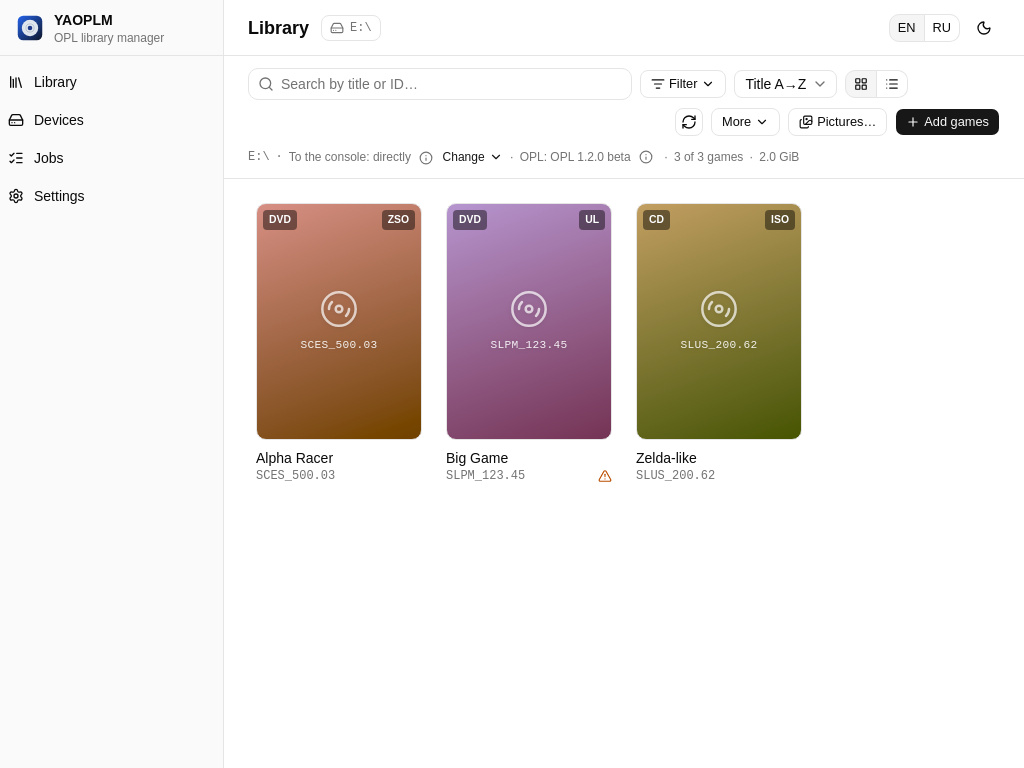
Test: the library toolbar (LIB-5, UI-5) › filters through one menu that counts what is ticked
expect the text "3 of 3 games" is shown: met, box 674,149 -> 759,165
expect the element "Media" is not shown: met
What coordinates should you click on to do the following:
click the button with test id "library-filter"
I would click on:
 (683, 84)
Its box is 640,70 -> 726,98.
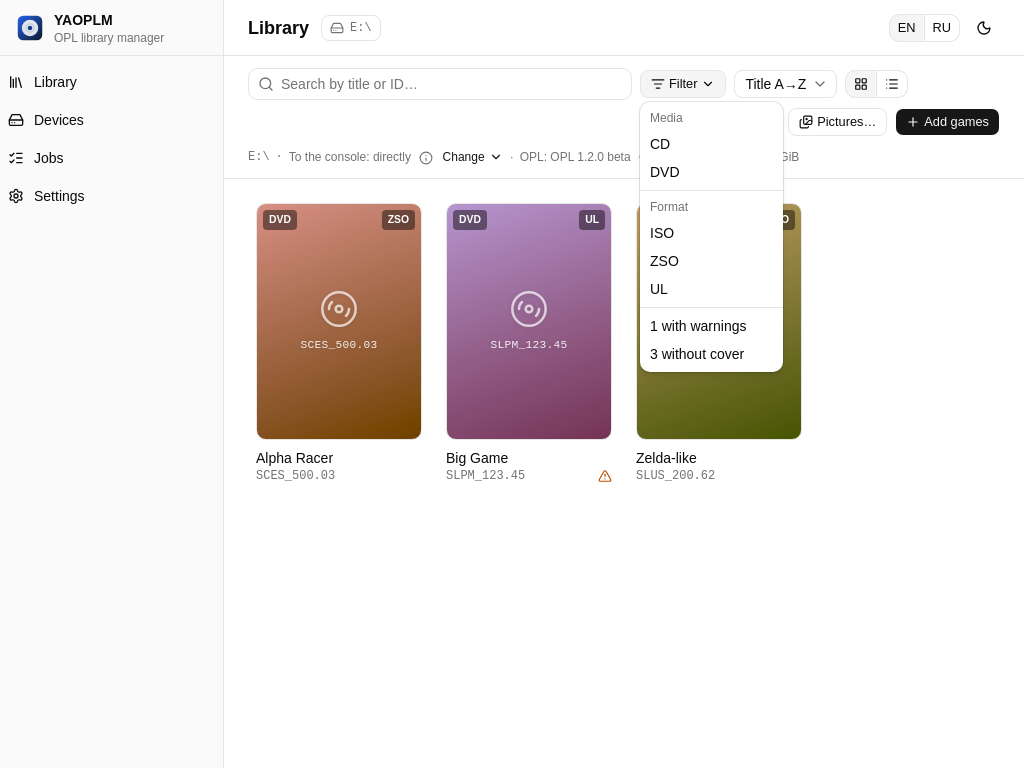
What coordinates should you click on to do the following:
click the menu item "DVD"
I would click on:
 (665, 172)
Its box is 650,164 -> 680,180.
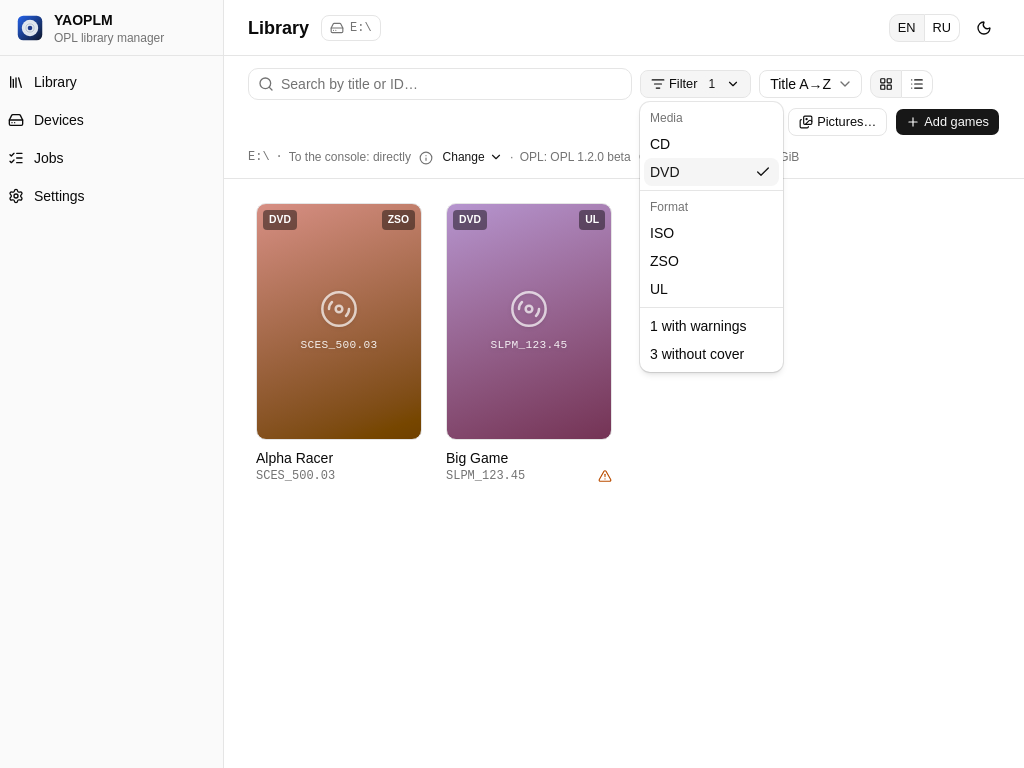
# The menu stays open for the next box.
What coordinates should you click on to do the following:
click the menu item "UL"
I would click on:
 (659, 289)
Its box is 650,281 -> 668,297.
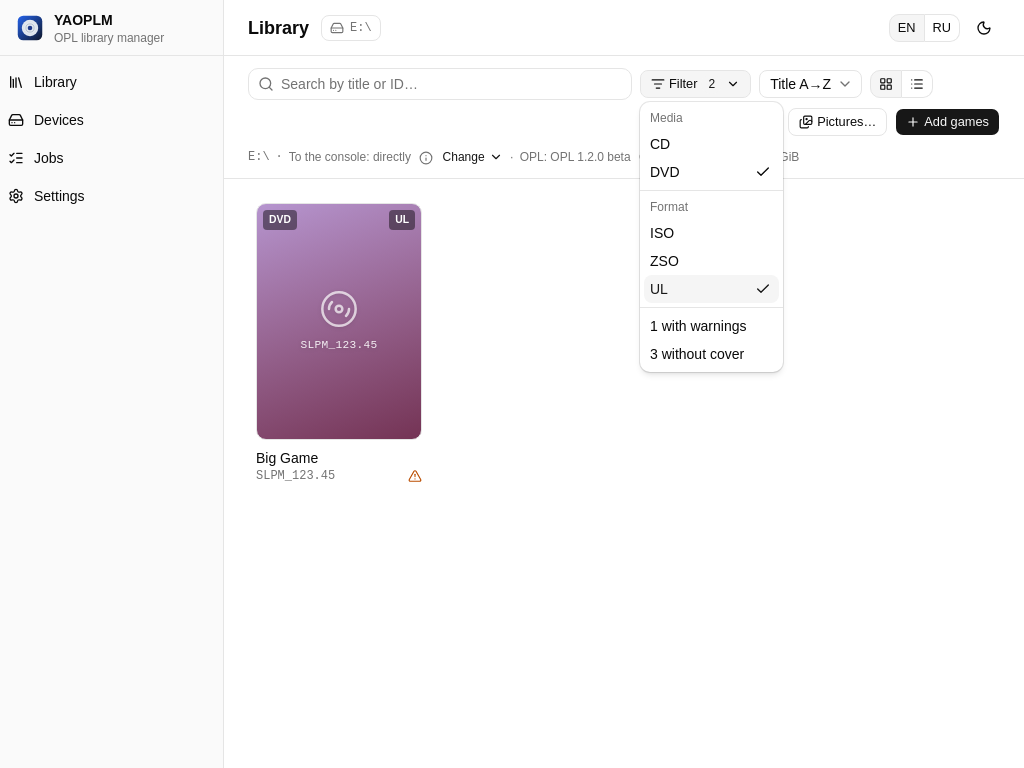
expect the icon with test id "library-filter-count" reads "2": met, box 708,77 -> 715,91
What coordinates should you click on to do the following:
click the menu item "1 with warnings"
I would click on:
 (698, 326)
Its box is 650,318 -> 746,334.
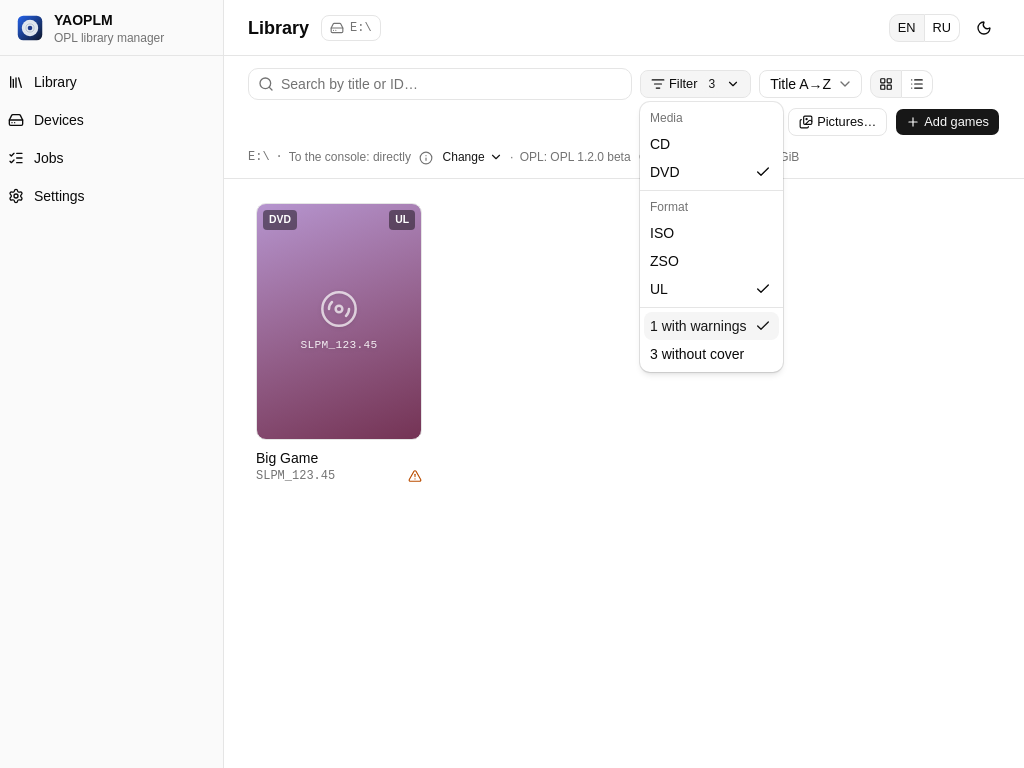
expect the icon with test id "library-filter-count" reads "3": met, box 708,77 -> 715,91
